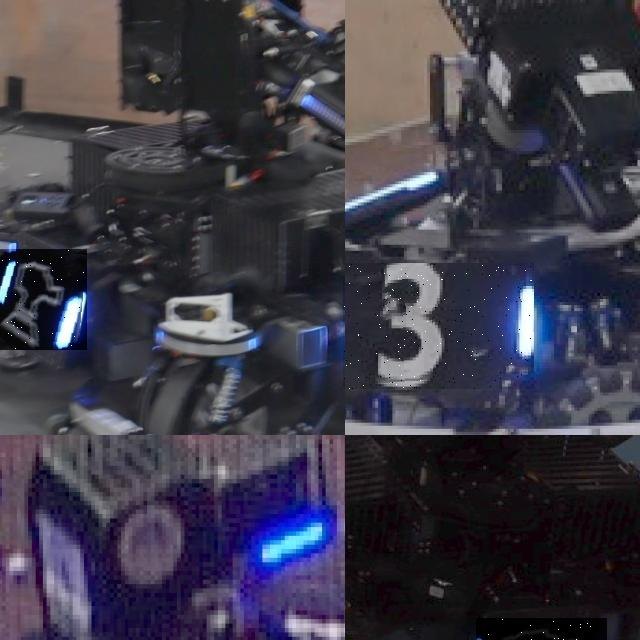B3: (345, 262, 533, 389)
Bs: (0, 249, 86, 350), (476, 618, 606, 640)
